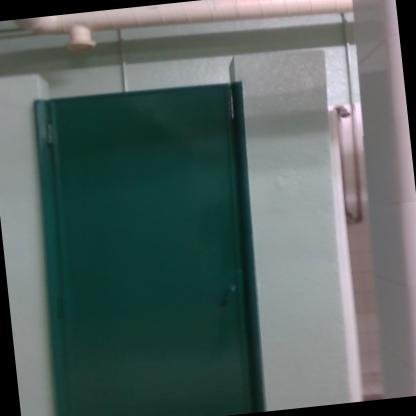closed: (11, 57, 286, 415)
